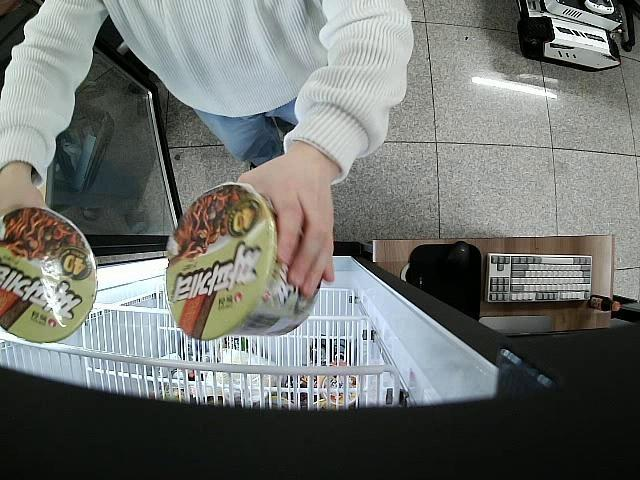03_chapagetti_L: (165, 182, 318, 341), (0, 206, 97, 342)
